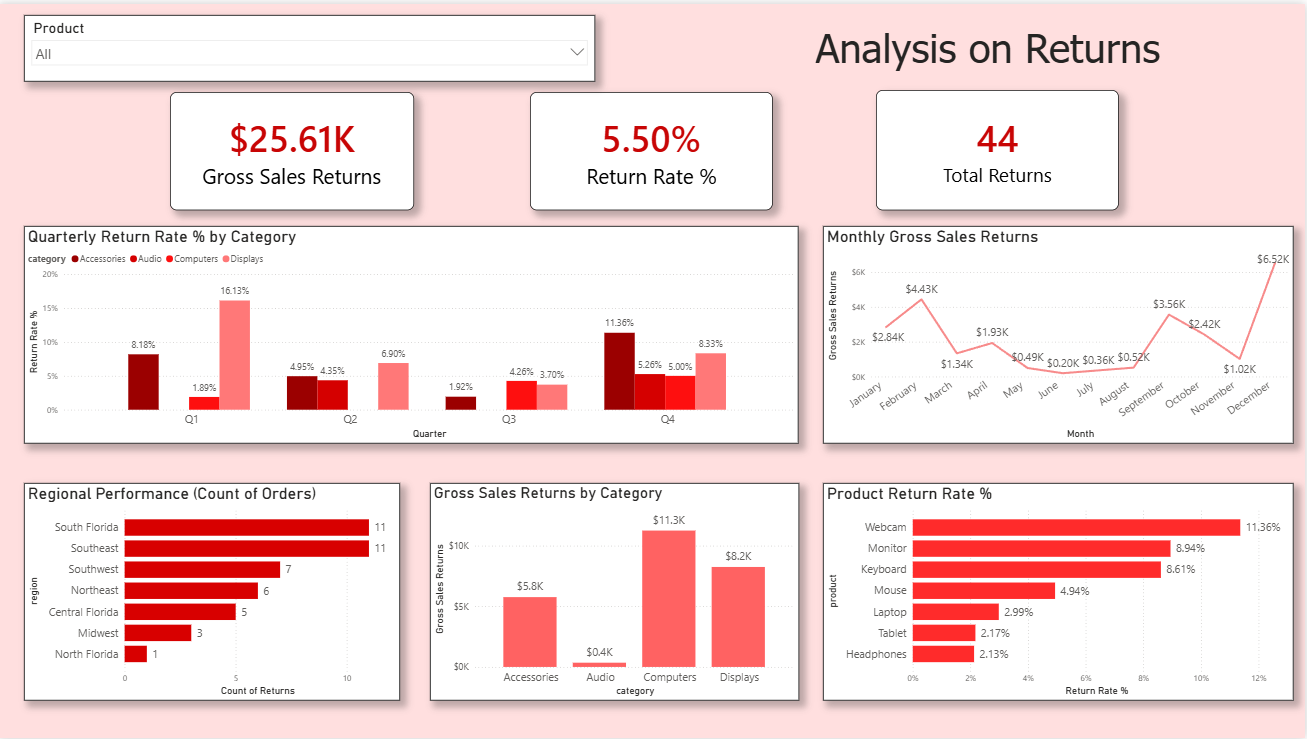

What the dashboard file says about the page in this screenshot:
{"tool":"powerbi","page":{"name":"Page 2","canvas":[1920,1080],"ordinal":1},"visuals":[{"type":"textbox","box":[1195.6,22.1,545.6,83.8],"z":0},{"type":"cardVisual","fields":{"Data":["Sales_Data.Contra Revenue"]},"box":[250.9,129.8,358.9,173.6],"z":1000},{"type":"cardVisual","fields":{"Data":["Sales_Data.Return Rate %"]},"box":[780.5,129.8,357.4,173.6],"z":2000},{"type":"cardVisual","fields":{"Data":["Sales_Data.Total Returns"]},"box":[1289.7,126.9,357.4,176.5],"z":3000},{"type":"lineChart","title":"Monthly Gross Sales Returns","fields":{"Category":["Sales_Data.order_date.Variation.Date Hierarchy.Month"],"Y":["Sales_Data.Contra Revenue"]},"box":[1212.4,326.8,691.6,319.5],"z":4000},{"type":"barChart","title":"Product Return Rate %","fields":{"Y":["Sales_Data.Return Rate %"],"Category":["Sales_Data.product"]},"box":[1212.4,704.7,691.6,319.5],"z":5000},{"type":"barChart","title":"Regional Performance (Count of Orders)","fields":{"Category":["Sales_Data.region"],"Y":["Sales_Data.Count of Returns"]},"box":[36.5,704.7,552.9,319.5],"z":6000},{"type":"slicer","fields":{"Values":["Sales_Data.product"]},"box":[36.5,16,840.4,97.8],"z":7000},{"type":"clusteredColumnChart","title":"Quarterly Return Rate % by Category","fields":{"Y":["Sales_Data.Return Rate %"],"Category":["Sales_Data.quarter","Sales_Data.month"],"Series":["Sales_Data.category"]},"box":[36.5,326.8,1139.5,319.5],"z":8000},{"type":"columnChart","title":"Gross Sales Returns by Category","fields":{"Category":["Sales_Data.category","Sales_Data.product"],"Y":["Sales_Data.Gross Sales Returns"]},"box":[633.2,704.7,542.7,319.5],"z":9000}]}

Visuals, with their boxes in screenshot pixels (x1, y1, x2, y2), scaled from the page's 1920x1080 canvas onto the 1307x739 screenshot:
textbox: <bbox>814, 15, 1185, 72</bbox>
cardVisual - Sales_Data.Contra Revenue: <bbox>171, 89, 415, 208</bbox>
cardVisual - Sales_Data.Return Rate %: <bbox>531, 89, 775, 208</bbox>
cardVisual - Sales_Data.Total Returns: <bbox>878, 87, 1121, 208</bbox>
"Monthly Gross Sales Returns" lineChart: <bbox>825, 224, 1296, 442</bbox>
"Product Return Rate %" barChart: <bbox>825, 482, 1296, 701</bbox>
"Regional Performance (Count of Orders)" barChart: <bbox>25, 482, 401, 701</bbox>
slicer - Sales_Data.product: <bbox>25, 11, 597, 78</bbox>
"Quarterly Return Rate % by Category" clusteredColumnChart: <bbox>25, 224, 801, 442</bbox>
"Gross Sales Returns by Category" columnChart: <bbox>431, 482, 800, 701</bbox>
